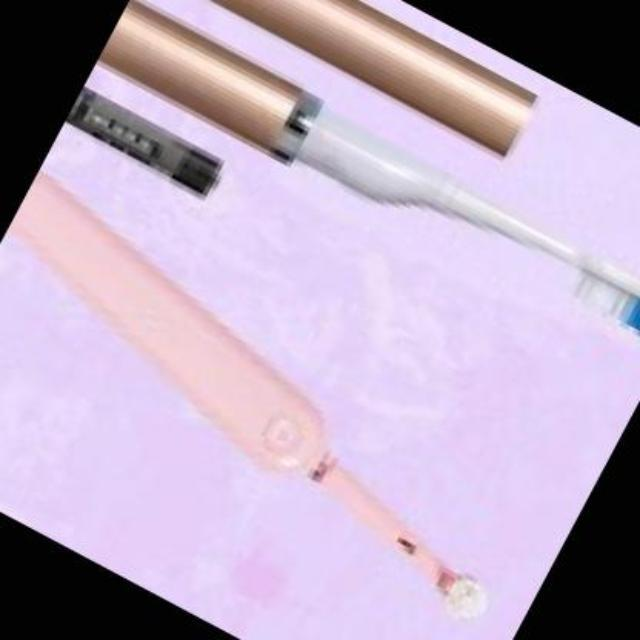toothbrush: (258, 84, 638, 373)
